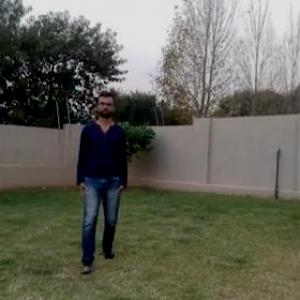follow: (77, 87, 122, 267)
